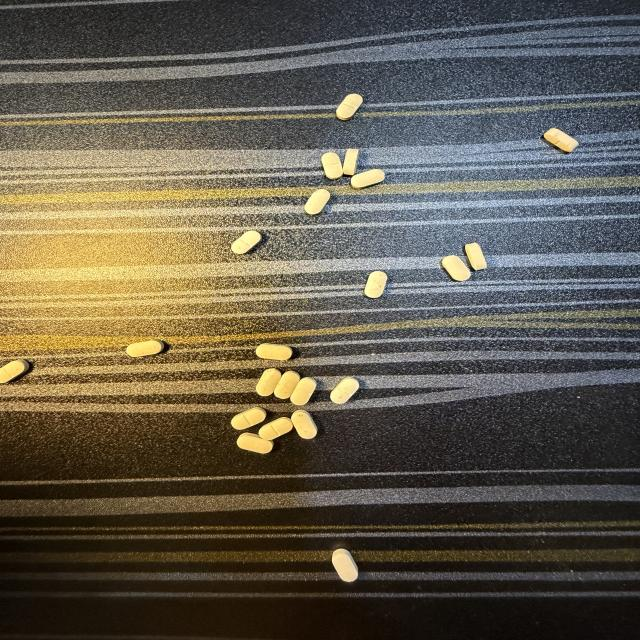pill: (332, 549, 358, 582), (544, 129, 578, 152), (259, 417, 293, 440), (291, 410, 317, 439), (256, 368, 282, 397), (330, 377, 359, 403), (231, 408, 266, 429), (442, 255, 470, 281), (274, 371, 300, 399), (237, 433, 273, 453), (290, 378, 316, 405), (0, 359, 29, 383), (231, 231, 261, 254), (336, 94, 362, 120), (126, 340, 165, 357), (321, 152, 343, 180), (305, 190, 330, 214), (351, 170, 384, 188), (365, 271, 387, 298), (256, 344, 292, 360), (465, 243, 486, 270), (343, 149, 358, 176)
